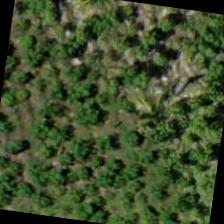Kelapa_Sawit: (105, 60, 206, 162)
